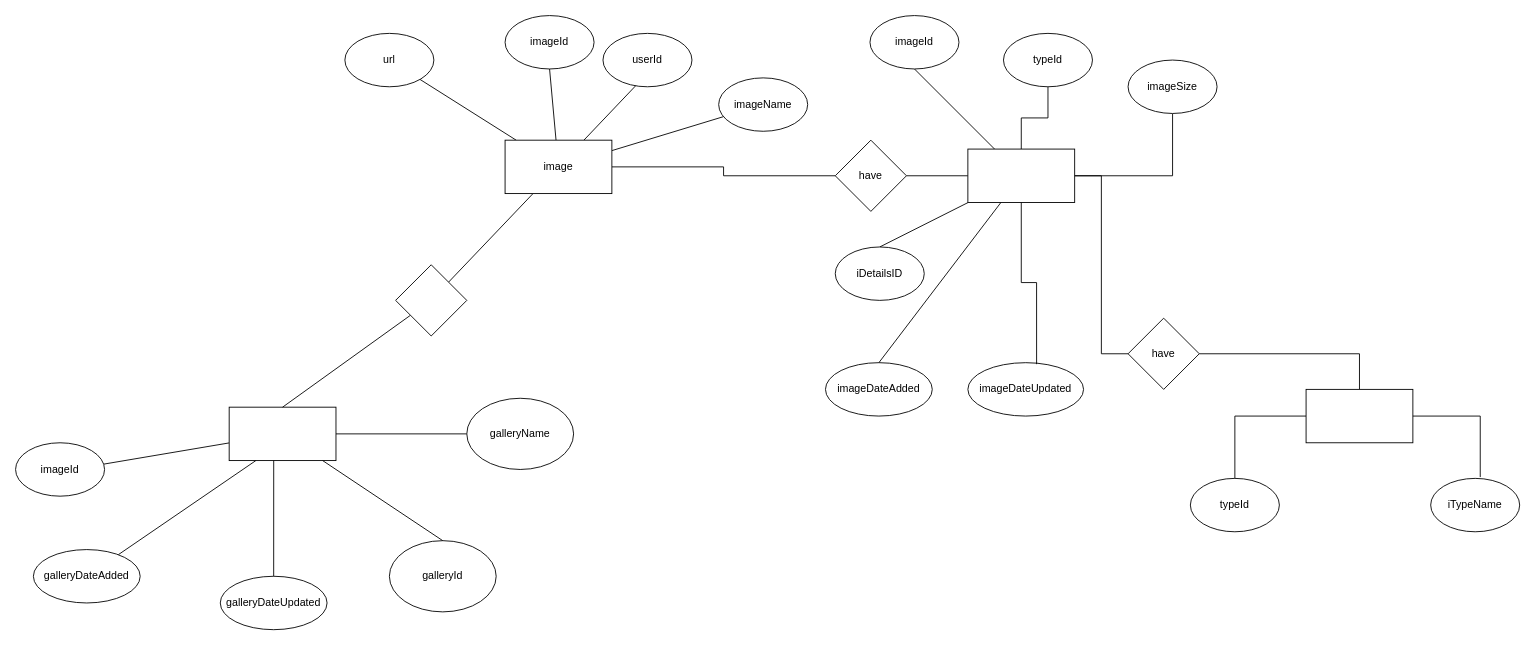
This 1535x645 diagram has some shape labels left out. Each missing label, with the box of its shape:
imageDetails: (967, 148, 1075, 202)
imageGallery: (228, 406, 336, 461)
imageType: (1305, 388, 1413, 443)
is in: (395, 264, 467, 336)
